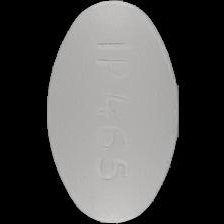52959-076: (0, 0, 224, 224)
